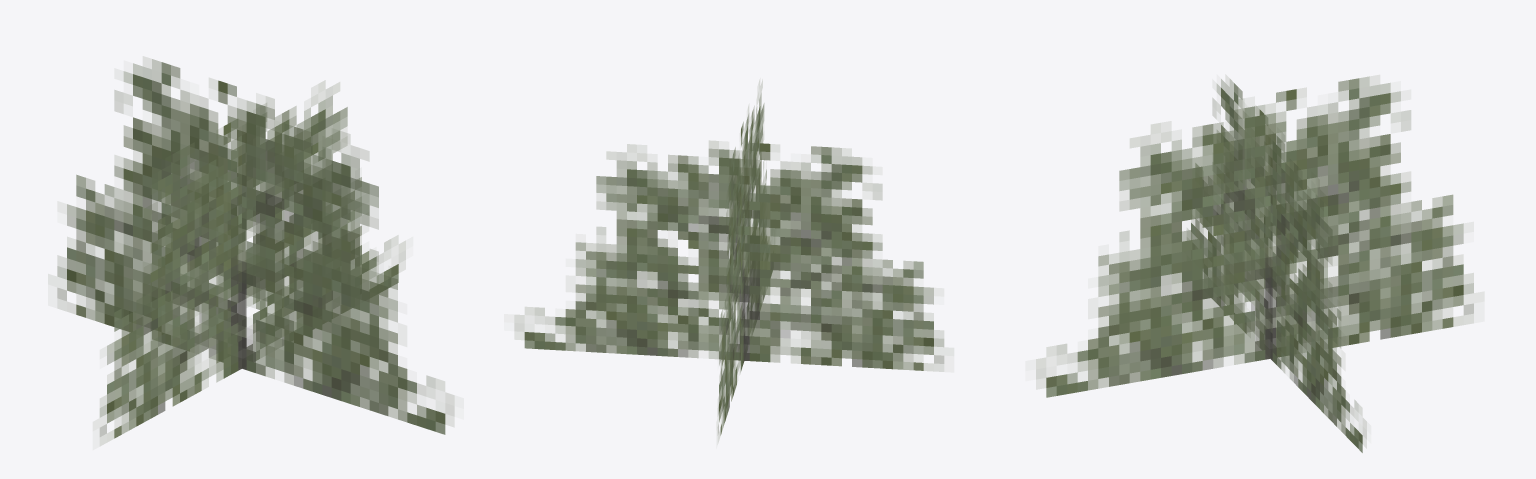
The model's file is tree-shrub.001_lev3.glb.
3 views of the same model, side by side, from view 1: azimuth 30°, elevation 25°; view 2: azimuth 150°, elevation 25°; view 3: azimuth 270°, elevation 25° (orthographic). The views are drawn at different scales.
Visible parts, largest first — view 1: tree-shrub.001_lev3; view 2: tree-shrub.001_lev3; view 3: tree-shrub.001_lev3.
Boxes of the visible parts, x1,y1,x2,y2 form: tree-shrub.001_lev3: (57,57,454,445); tree-shrub.001_lev3: (514,81,944,441); tree-shrub.001_lev3: (1036,75,1473,452).
Bounding box in the file's own units: 11.07 × 6.45 × 11.07.
Materials: 1 (1 with a texture image).
